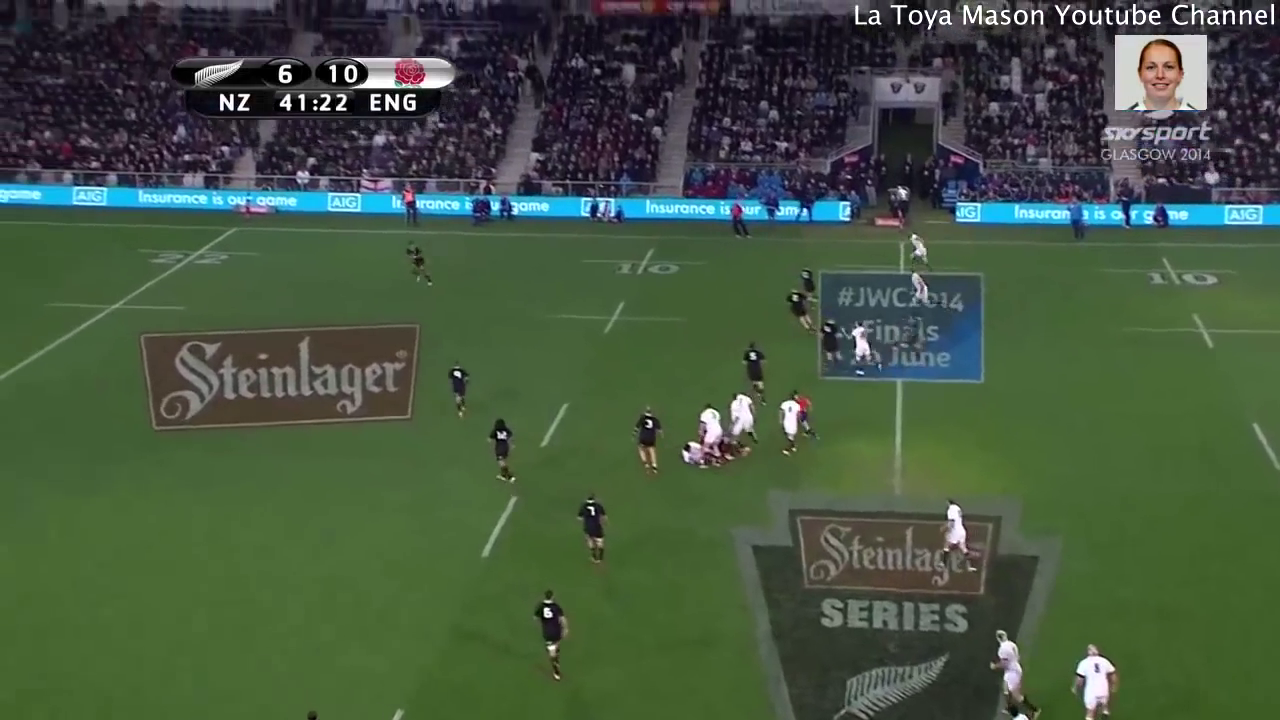10_metre: (1121, 309, 1280, 354), (546, 293, 688, 342), (1104, 252, 1239, 294), (581, 241, 713, 281)
player: (530, 585, 573, 684), (1070, 640, 1119, 720), (986, 623, 1031, 707), (936, 493, 973, 569), (573, 493, 609, 570), (485, 416, 520, 489), (632, 401, 658, 480), (737, 341, 772, 396), (697, 403, 726, 467), (402, 236, 434, 292), (725, 391, 757, 447), (846, 319, 878, 372), (814, 316, 845, 368), (778, 395, 805, 453), (444, 356, 469, 416), (784, 288, 817, 333), (792, 387, 818, 443), (905, 230, 929, 270), (905, 270, 929, 306), (797, 264, 820, 300), (679, 441, 697, 462)
ruck: (677, 428, 747, 471)
